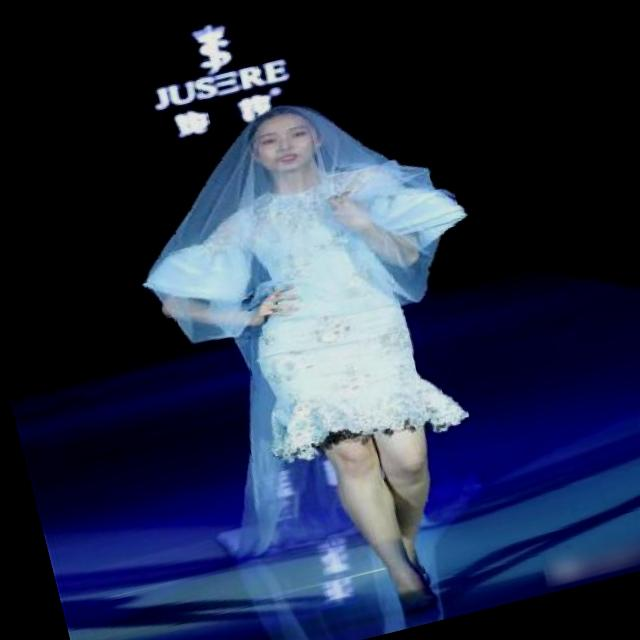Person: (135, 77, 514, 640)
